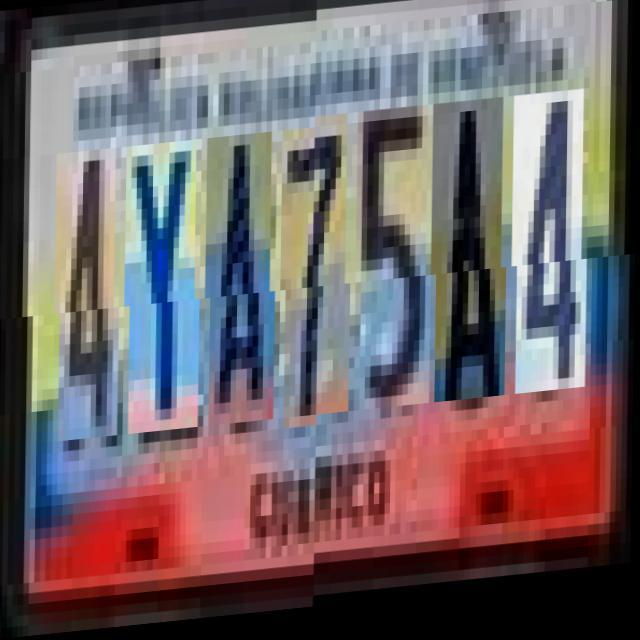4: (516, 112, 590, 416), (60, 150, 122, 443)
5: (361, 125, 434, 429)
7: (285, 131, 353, 435)
A: (436, 119, 509, 422), (210, 137, 278, 430)
Y: (130, 143, 202, 437)
